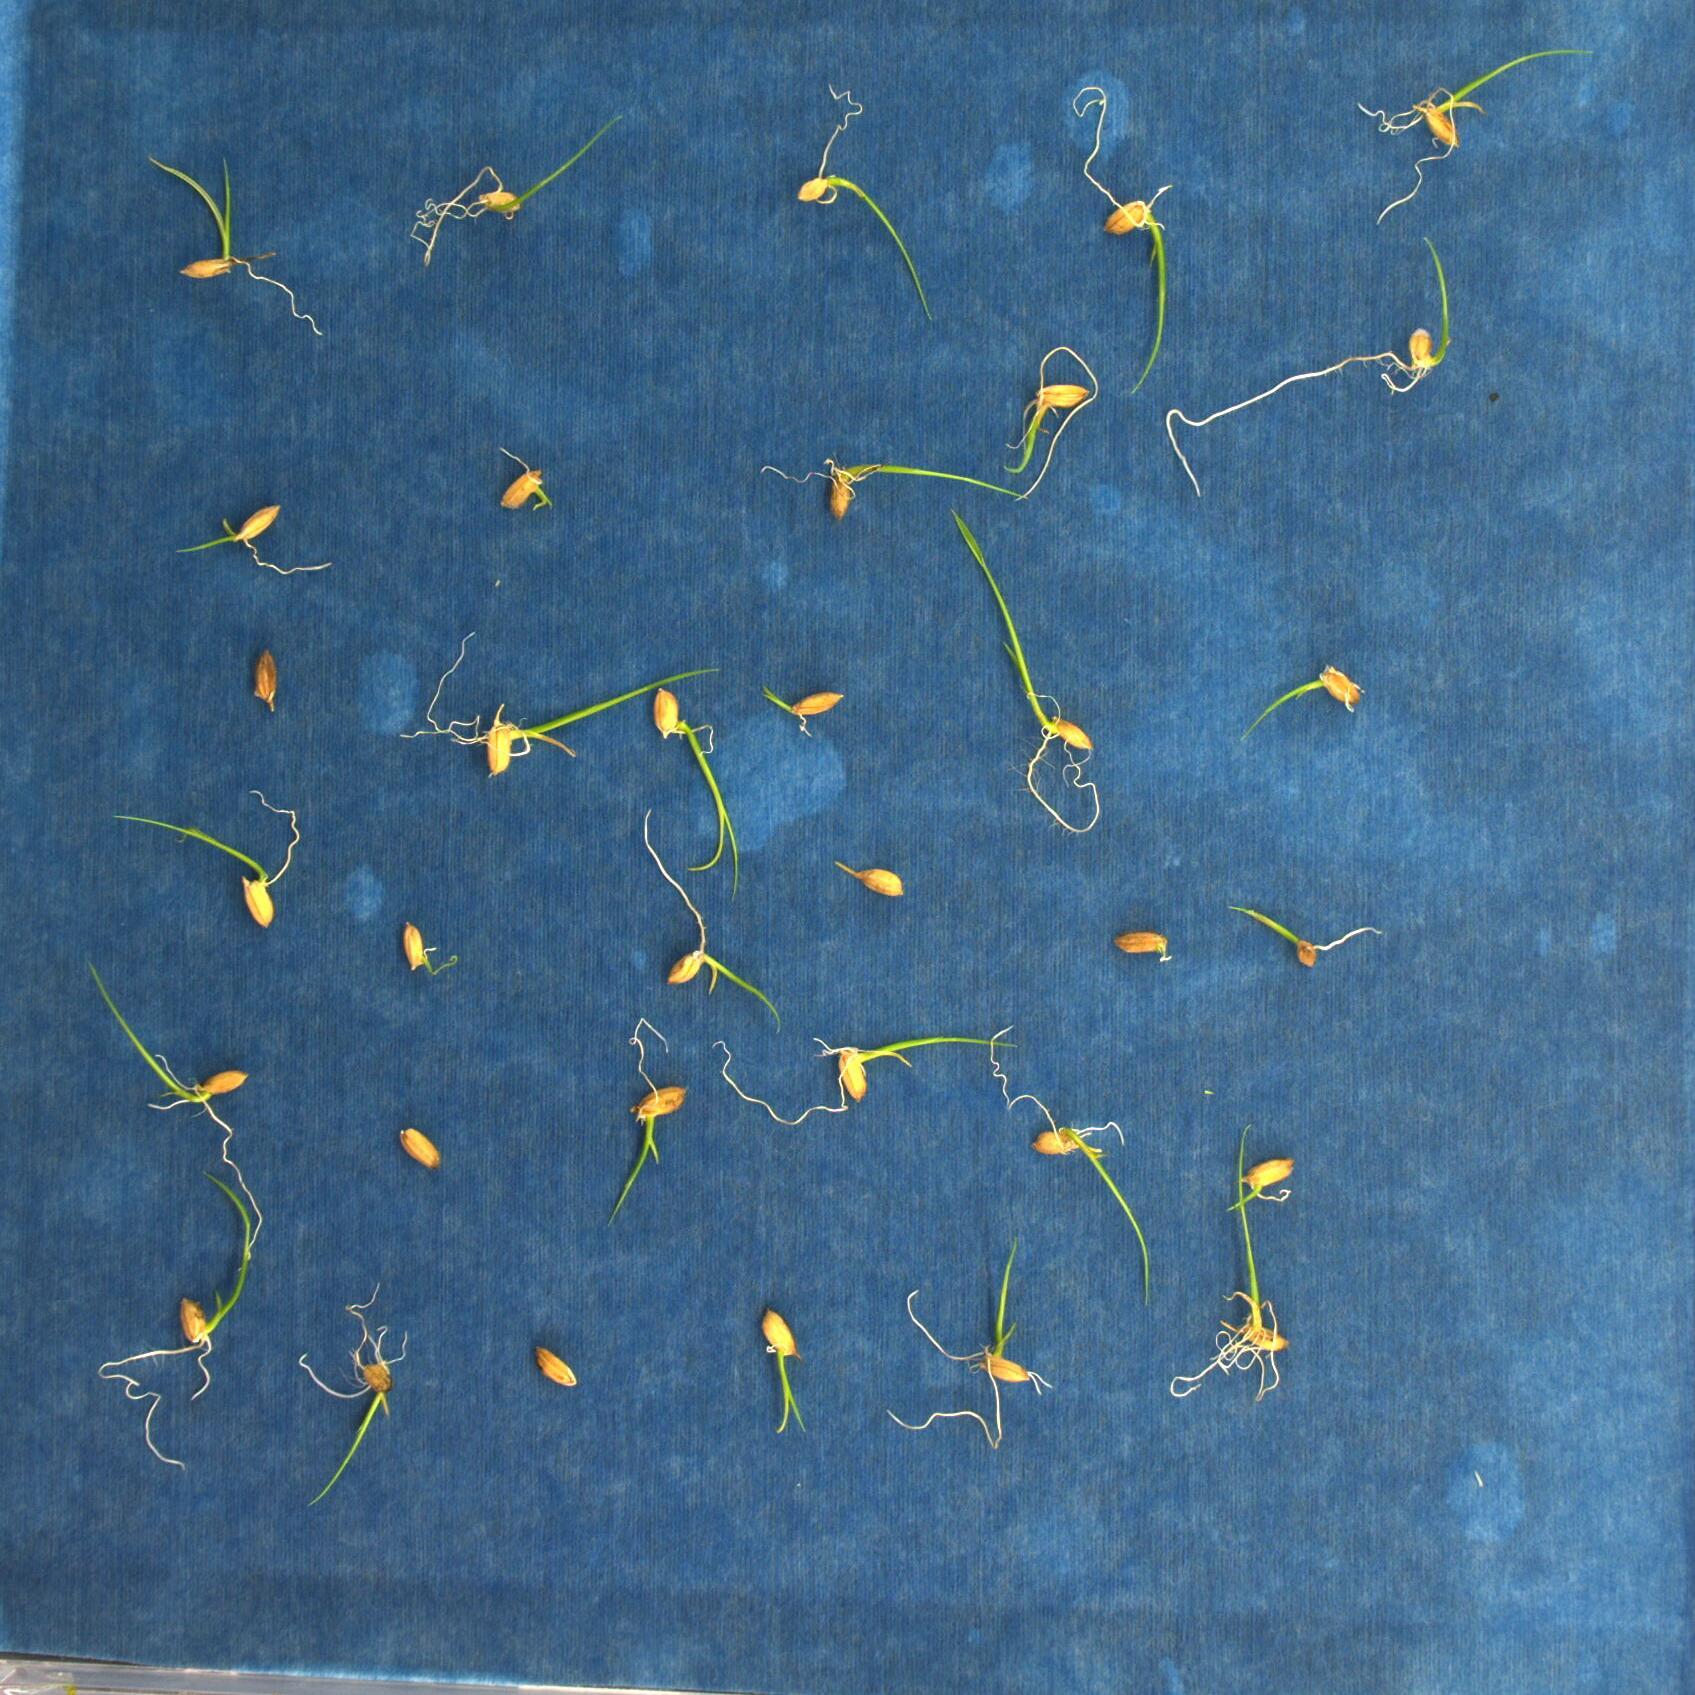not sprout: (495, 439, 553, 520), (830, 851, 903, 903), (1111, 919, 1175, 969), (526, 1340, 581, 1395), (397, 1122, 447, 1183), (248, 646, 282, 716)
sprout: (1164, 234, 1454, 503), (81, 945, 264, 1270), (947, 504, 1102, 840), (983, 1017, 1153, 1312), (92, 1169, 255, 1478), (394, 626, 722, 779), (1352, 45, 1600, 231), (792, 76, 938, 328), (143, 146, 323, 345), (885, 1242, 1054, 1451), (638, 802, 785, 1042), (1068, 81, 1175, 404), (408, 112, 626, 270), (1166, 1122, 1288, 1402), (702, 1031, 1018, 1132), (107, 785, 309, 931), (295, 1276, 411, 1503), (601, 1009, 697, 1239), (647, 681, 745, 900), (754, 452, 1028, 528), (1000, 338, 1104, 498), (169, 500, 335, 581), (1226, 899, 1388, 973), (1236, 657, 1369, 740), (757, 1301, 812, 1444), (762, 674, 849, 740), (1228, 1153, 1299, 1212), (400, 917, 456, 983)
